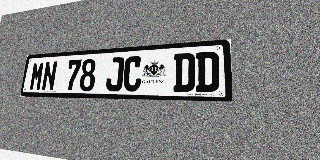7: (64, 59, 82, 91)
8: (79, 58, 97, 91)
C: (122, 56, 143, 91)
D: (195, 51, 219, 92), (173, 53, 195, 92)
J: (105, 57, 125, 91)
M: (29, 61, 45, 91)
N: (41, 61, 58, 91)
